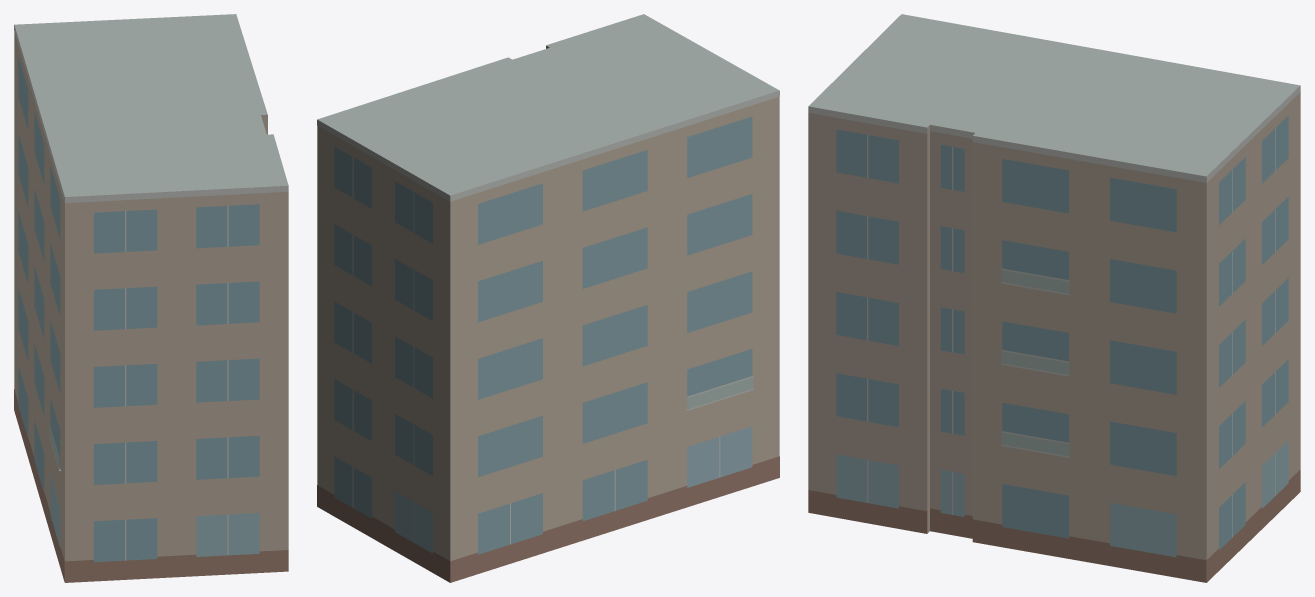
File: survey-upis-32532554.glb
The picture shows the model from 3 angles, left to right: view 1: azimuth 30°, elevation 25°; view 2: azimuth 150°, elevation 25°; view 3: azimuth 270°, elevation 25°; orthographic projection. The views are drawn at different scales.
Parts seen in each view (by area): view 1: survey-upis-32532554.tmp; view 2: survey-upis-32532554.tmp; view 3: survey-upis-32532554.tmp.
Part boxes in pixels (x1,y1,x2,y2): survey-upis-32532554.tmp: [14, 14, 288, 582]; survey-upis-32532554.tmp: [317, 14, 779, 582]; survey-upis-32532554.tmp: [808, 14, 1300, 582].
Bounding box in the file's own units: 13.3 × 15.5 × 17.03.
